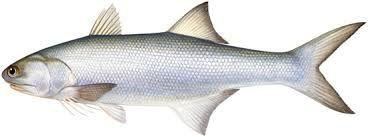Fourfinger Threadfish: (1, 0, 368, 137)
